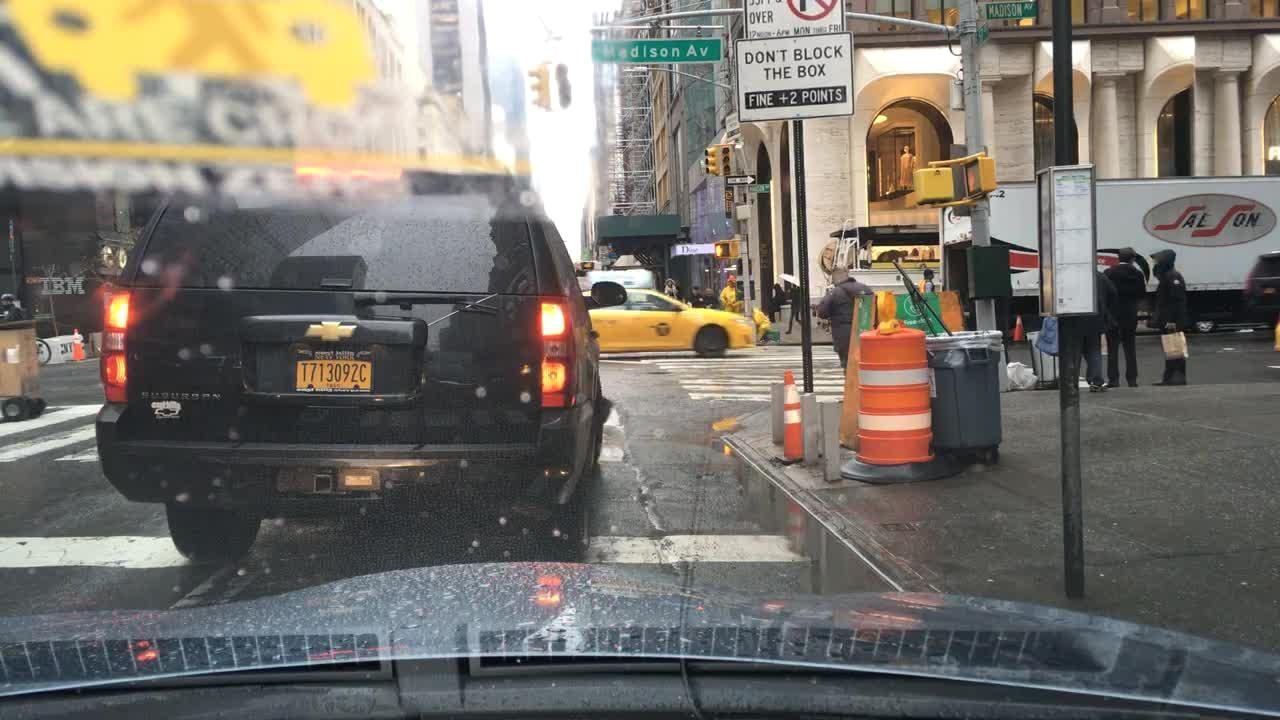chevrolet: (300, 319, 360, 343)
